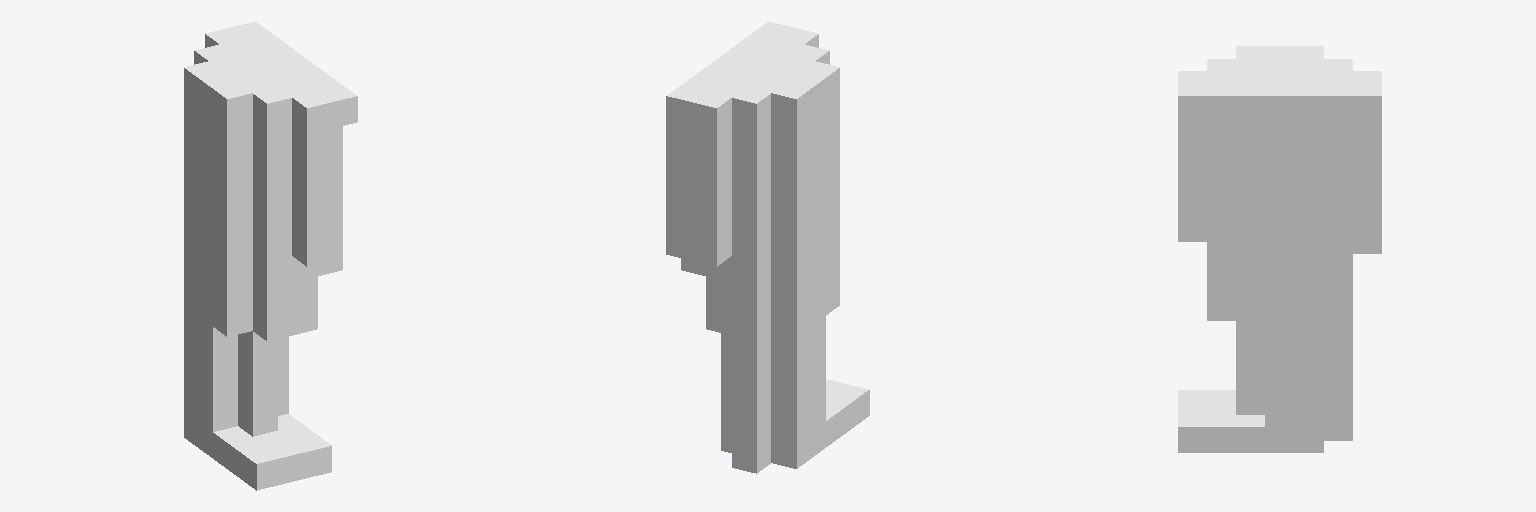
Rendered from char-124-leg_hvy_1_sh_du_color.obj.
The picture shows the model from 3 angles: view 1: azimuth 30°, elevation 25°; view 2: azimuth 150°, elevation 25°; view 3: azimuth 270°, elevation 25°; orthographic projection.
Visible parts, largest first — view 1: leg_hvy_1_sh_du_color; view 2: leg_hvy_1_sh_du_color; view 3: leg_hvy_1_sh_du_color.
Part boxes in pixels (left/top/right/bottom): leg_hvy_1_sh_du_color: left=184, top=21, right=357, bottom=490; leg_hvy_1_sh_du_color: left=666, top=21, right=869, bottom=473; leg_hvy_1_sh_du_color: left=1178, top=46, right=1381, bottom=452.
Size of the model in its own units: 0.4 by 1.4 by 0.7.